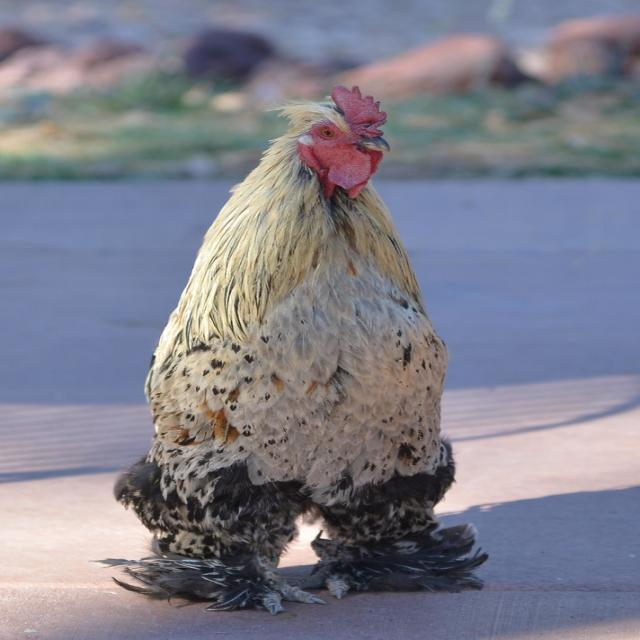Chicken: (86, 87, 493, 614)
